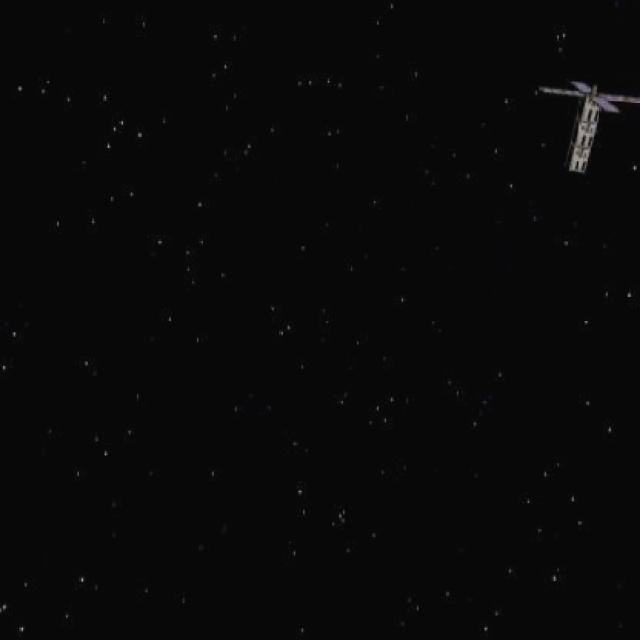satellite: (538, 71, 640, 192)
